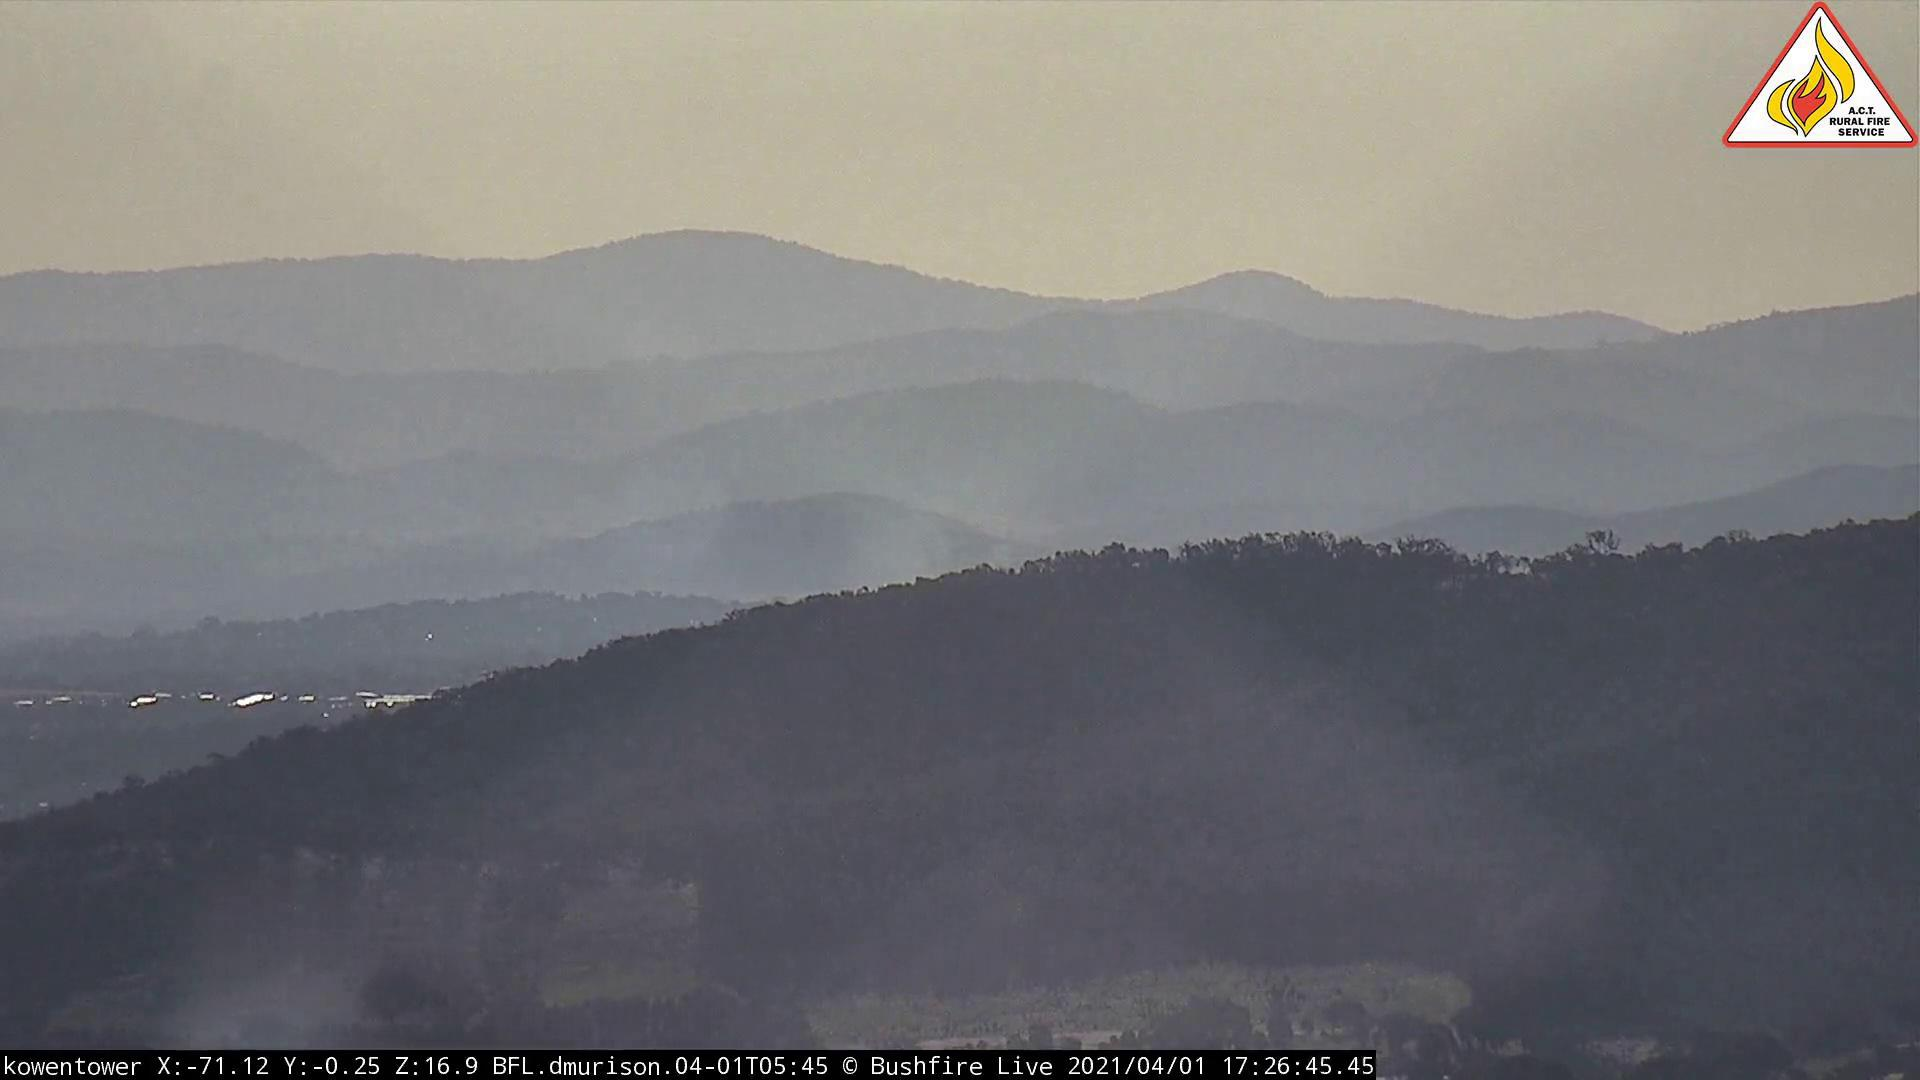instance_salient_object: (608, 364, 1021, 620)
